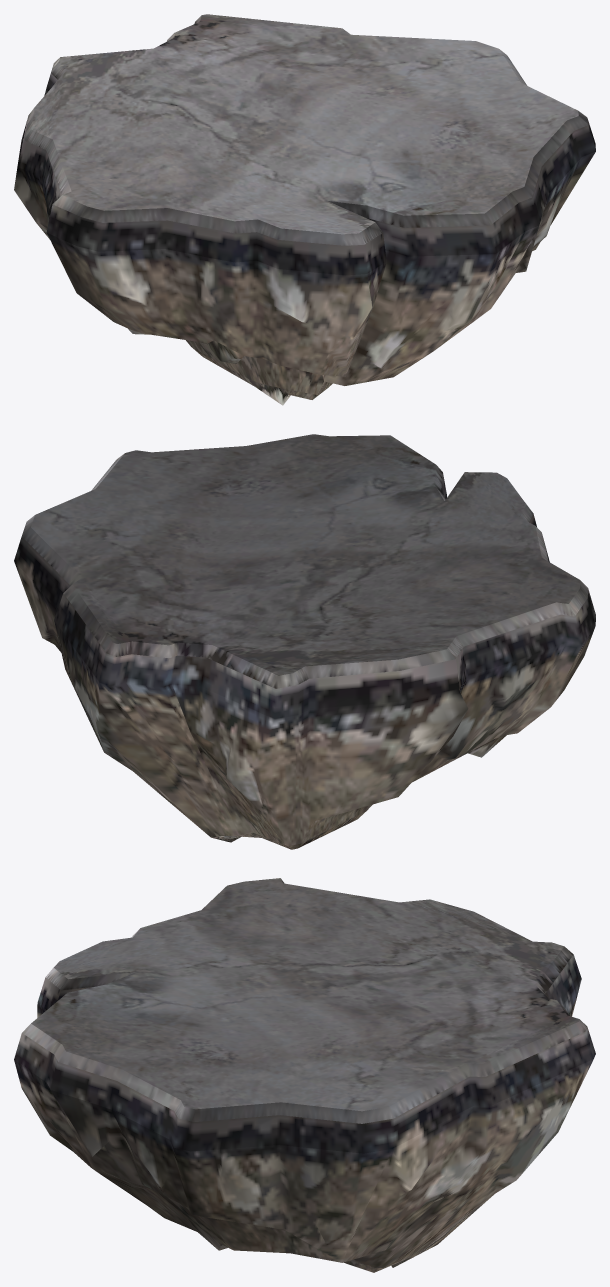
The model's file is invisiblewoman_fusion_rodeo.glb.
The picture shows the model from 3 angles, top to bottom: view 1: azimuth 30°, elevation 25°; view 2: azimuth 150°, elevation 25°; view 3: azimuth 270°, elevation 25°; orthographic projection. The views are drawn at different scales.
Visible parts, largest first — view 1: invisiblewoman_fusion_rodeo_0; view 2: invisiblewoman_fusion_rodeo_0; view 3: invisiblewoman_fusion_rodeo_0.
Part boxes in pixels (x1=…): invisiblewoman_fusion_rodeo_0: x1=14, y1=14, x2=595, y2=405; invisiblewoman_fusion_rodeo_0: x1=14, y1=434, x2=595, y2=849; invisiblewoman_fusion_rodeo_0: x1=14, y1=878, x2=595, y2=1272.
Bounding box in the file's own units: 94.3 × 45.65 × 93.61.
1 material, 1 textured.
